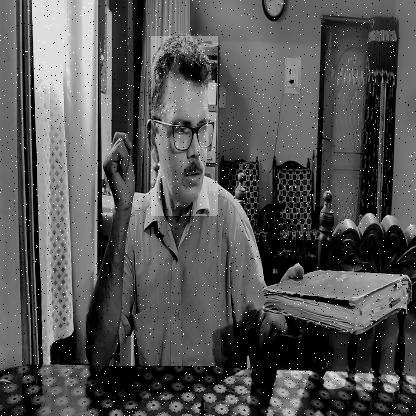Distracted: (151, 36, 218, 216)
